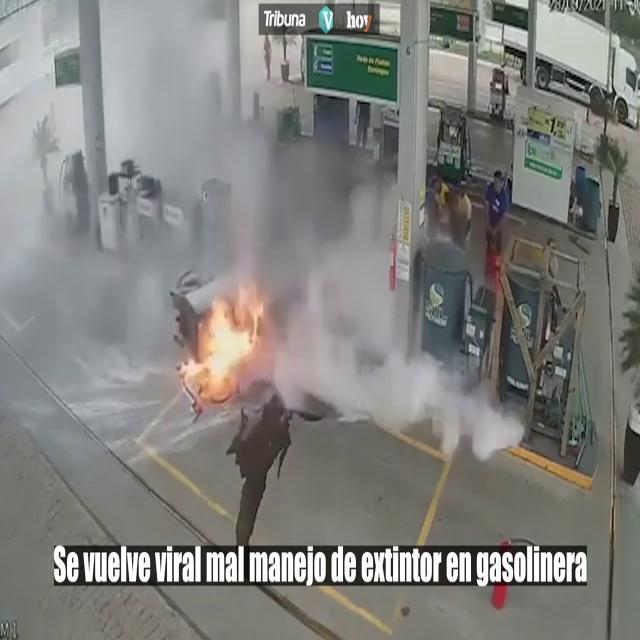Fire: (183, 276, 269, 402)
Smoke: (248, 140, 510, 470), (134, 6, 290, 310)
